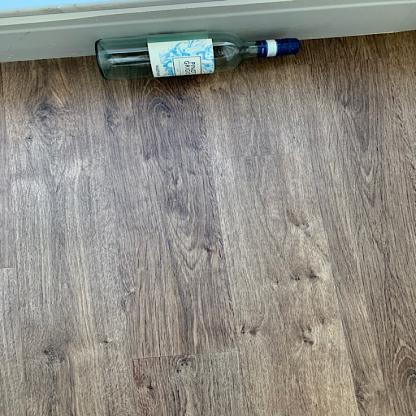trash: (89, 26, 306, 89)
